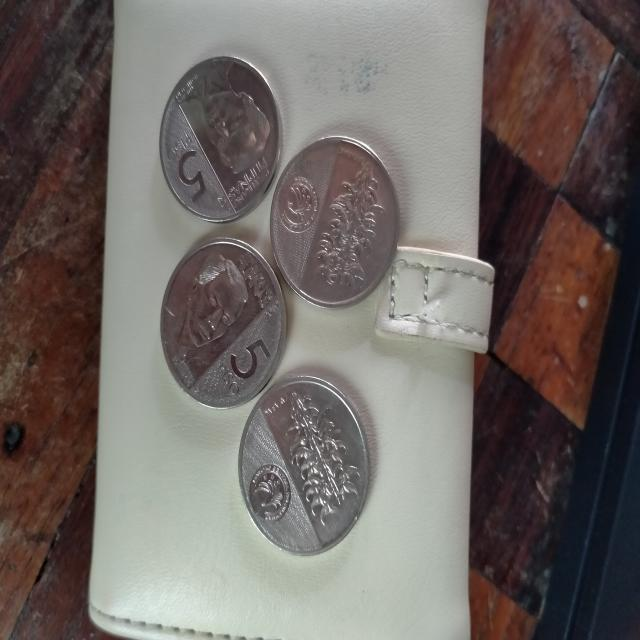5_New_Back: (280, 382, 365, 523), (318, 154, 388, 302)
5_New_Front: (213, 319, 275, 407), (156, 119, 215, 204)
